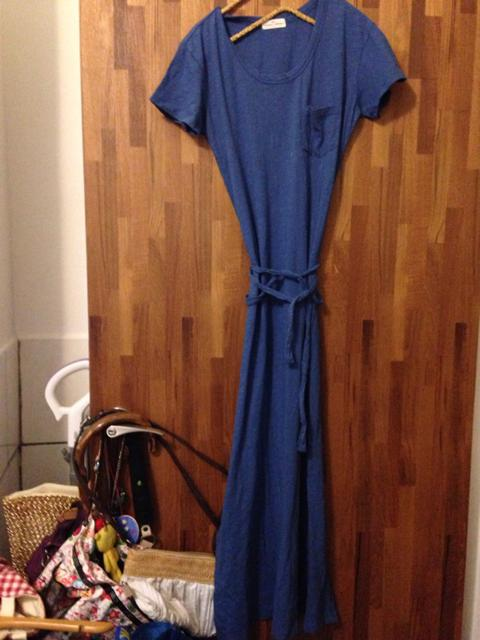Dresses: (146, 1, 410, 637)
